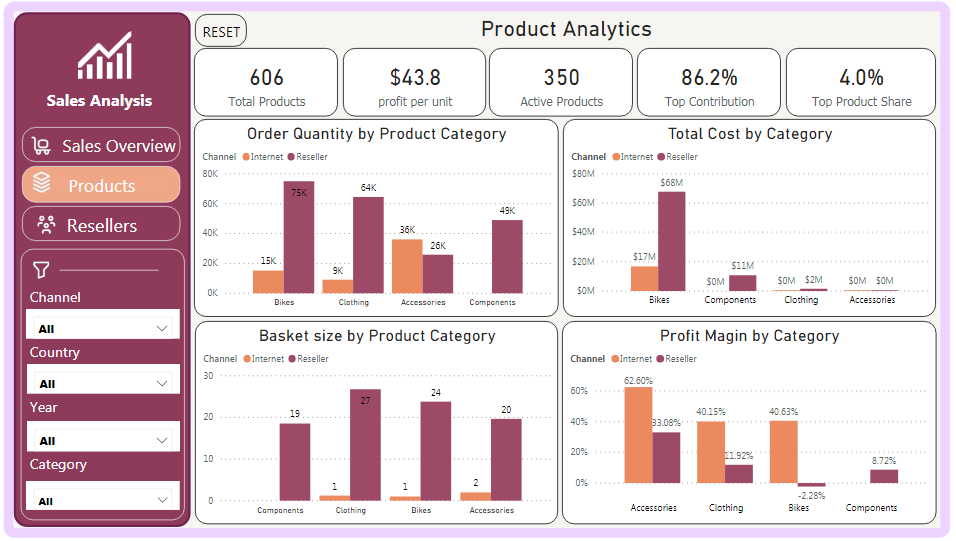

Layout of this report page (visuals, bound fields, positions):
{"tool":"powerbi","page":{"name":"Products","canvas":[1280,720],"ordinal":1},"visuals":[{"type":"basicShape","title":"Shape","box":[10.5,0,1269.5,718.9],"z":0},{"type":"basicShape","title":"Shape","box":[34.7,14.5,237.1,689.6],"z":1000},{"type":"actionButton","box":[47.7,172,208.2,46.3],"z":2000,"group":"g1"},{"type":"actionButton","box":[47.7,276.1,208.2,46.3],"z":4000,"group":"g1"},{"type":"basicShape","box":[43.4,328.2,219.8,364.3],"z":5000},{"type":"textbox","box":[52,377.3,138.8,36.1],"z":6000},{"type":"slicer","fields":{"Values":["DimSalesTerritory.کشور"]},"box":[53.5,482.9,201,39],"z":7000},{"type":"slicer","fields":{"Values":["tbl_FactTotalSales.Channel"]},"box":[53,410.6,202,39],"z":8000},{"type":"slicer","fields":{"Values":["DimDate.Date.Variation.Date Hierarchy.Year"]},"box":[53.5,558.1,201,40.5],"z":9000},{"type":"slicer","fields":{"Values":["DimProductSubcategory.EnglishProductSubcategoryName"]},"box":[53,637.6,202,37.6],"z":10000},{"type":"textbox","box":[52,597.1,127.2,40.5],"z":11000},{"type":"textbox","box":[52,521.9,138.8,34.7],"z":12000},{"type":"textbox","box":[52,449.6,138.8,34.7],"z":13000},{"type":"basicShape","box":[86.7,339.8,150.4,40.5],"z":14000},{"type":"textbox","box":[75.2,117.1,161.9,39],"z":15000},{"type":"image","box":[49.1,339.7,47.7,37.6],"z":16000,"group":"g1"},{"type":"image","box":[95.4,37.6,118.6,79.5],"z":17000},{"type":"image","box":[52,280.4,56.4,37.6],"z":19000,"group":"g1"},{"type":"image","box":[53.5,177.8,40.5,37.6],"z":20000,"group":"g1"},{"type":"clusteredColumnChart","title":"Basket size by Product Category","fields":{"Category":["DimProductCategory.EnglishProductCategoryName"],"Series":["tbl_FactTotalSales.Channel"],"Y":["Measurs.Basket size"]},"box":[274.7,426.5,477.1,267.5],"z":21000},{"type":"clusteredColumnChart","title":"Profit Magin by Category","fields":{"Category":["DimProductCategory.EnglishProductCategoryName"],"Series":["tbl_FactTotalSales.Channel"],"Y":["Measurs.Gross Profit Margin"]},"box":[756.1,426.5,491.6,267.5],"z":22000},{"type":"card","title":"Total Sales","fields":{"Values":["Measurs.Top Product Share %"]},"box":[1051.1,68,196.6,89.6],"z":23000},{"type":"card","title":"Total Sales","fields":{"Values":["Measurs.Top Category Contribution %"]},"box":[855.9,68,189.4,89.6],"z":24000},{"type":"card","title":"Total Sales","fields":{"Values":["Measurs.Active Products"]},"box":[660.7,68,189.4,89.6],"z":25000},{"type":"card","title":"Total Sales","fields":{"Values":["Measurs.Total Products"]},"box":[273.3,68,189.4,89.6],"z":26000},{"type":"card","title":"Total Sales","fields":{"Values":["Measurs.profit per unit"]},"box":[468.4,68,188,89.6],"z":27000},{"type":"clusteredColumnChart","title":"Order Quantity by Product Category","fields":{"Category":["DimProductCategory.EnglishProductCategoryName"],"Series":["tbl_FactTotalSales.Channel"],"Y":["Measurs.Order Quantity"]},"box":[273.3,161.9,478.6,260],"z":28000},{"type":"textbox","title":"Product Analytics","box":[345.5,24.6,834.2,43.4],"z":29000},{"type":"actionButton","box":[274.7,23.1,68,43.4],"z":30000},{"type":"clusteredColumnChart","title":"Total Cost by Category","fields":{"Category":["DimProductCategory.EnglishProductCategoryName"],"Series":["tbl_FactTotalSales.Channel"],"Y":["Measurs.Total Cost"]},"box":[757.6,161.9,490.1,260.2],"z":31000},{"type":"actionButton","box":[47.8,223.5,208.2,47.8],"z":32000,"group":"g1"},{"type":"image","box":[52.9,221.8,41,44.4],"z":33000,"group":"g1"},{"type":"group","id":"g1","title":"Group 1","box":[47.7,172,208.3,205.3],"z":33001}]}

Visuals, with their boxes in screenshot pixels (x1, y1, x2, y2), scaled from the page's 1280x720 canvas onto the 956x541 screenshot:
"Shape" basicShape: (8, 0, 955, 540)
"Shape" basicShape: (26, 11, 203, 529)
actionButton: (36, 129, 191, 164)
actionButton: (36, 207, 191, 242)
basicShape: (32, 247, 197, 520)
textbox: (39, 283, 143, 311)
slicer - DimSalesTerritory.کشور: (40, 363, 190, 392)
slicer - tbl_FactTotalSales.Channel: (40, 309, 190, 338)
slicer - DimDate.Date.Variation.Date Hierarchy.Year: (40, 419, 190, 450)
slicer - DimProductSubcategory.EnglishProductSubcategoryName: (40, 479, 190, 507)
textbox: (39, 449, 134, 479)
textbox: (39, 392, 143, 418)
textbox: (39, 338, 143, 364)
basicShape: (65, 255, 177, 286)
textbox: (56, 88, 177, 117)
image: (37, 255, 72, 283)
image: (71, 28, 160, 88)
image: (39, 211, 81, 239)
image: (40, 134, 70, 162)
"Basket size by Product Category" clusteredColumnChart: (205, 320, 562, 521)
"Profit Magin by Category" clusteredColumnChart: (565, 320, 932, 521)
"Total Sales" card: (785, 51, 932, 118)
"Total Sales" card: (639, 51, 781, 118)
"Total Sales" card: (493, 51, 635, 118)
"Total Sales" card: (204, 51, 346, 118)
"Total Sales" card: (350, 51, 490, 118)
"Order Quantity by Product Category" clusteredColumnChart: (204, 122, 562, 317)
"Product Analytics" textbox: (258, 18, 881, 51)
actionButton: (205, 17, 256, 50)
"Total Cost by Category" clusteredColumnChart: (566, 122, 932, 317)
actionButton: (36, 168, 191, 204)
image: (40, 167, 70, 200)
"Group 1" group: (36, 129, 191, 283)
